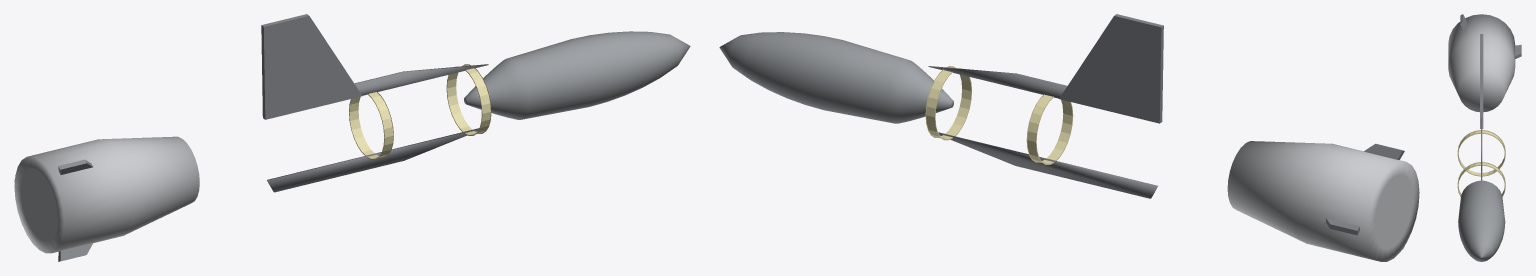
The model's file is US_LAM_Tomahawk_LOD1.fbx.
3 renders of one model, left to right at view 1: azimuth 30°, elevation 25°; view 2: azimuth 150°, elevation 25°; view 3: azimuth 270°, elevation 25°, orthographic. The views are drawn at different scales.
Visible parts, largest first — view 1: WPN_US_LAM_Tomahawk_LOD1_Tail, WPN_US_LAM_Tomahawk_LOD1_Body, WPN_US_LAM_Tomahawk_LOD1_Wings, WPN_US_LAM_Tomahawk_LOD1_Detail, WPN_US_LAM_Tomahawk_LOD1_Marking, WPN_US_LAM_Tomahawk_LOD1_Fins; view 2: WPN_US_LAM_Tomahawk_LOD1_Tail, WPN_US_LAM_Tomahawk_LOD1_Body, WPN_US_LAM_Tomahawk_LOD1_Wings, WPN_US_LAM_Tomahawk_LOD1_Detail, WPN_US_LAM_Tomahawk_LOD1_Marking, WPN_US_LAM_Tomahawk_LOD1_Fins; view 3: WPN_US_LAM_Tomahawk_LOD1_Tail, WPN_US_LAM_Tomahawk_LOD1_Body, WPN_US_LAM_Tomahawk_LOD1_Marking, WPN_US_LAM_Tomahawk_LOD1_Wings, WPN_US_LAM_Tomahawk_LOD1_Fins, WPN_US_LAM_Tomahawk_LOD1_Detail.
Boxes of the visible parts, x1,y1,x2,y2 form: WPN_US_LAM_Tomahawk_LOD1_Tail: [14, 136, 199, 253]; WPN_US_LAM_Tomahawk_LOD1_Body: [464, 31, 690, 119]; WPN_US_LAM_Tomahawk_LOD1_Wings: [261, 14, 362, 119]; WPN_US_LAM_Tomahawk_LOD1_Detail: [267, 64, 488, 192]; WPN_US_LAM_Tomahawk_LOD1_Marking: [349, 64, 491, 159]; WPN_US_LAM_Tomahawk_LOD1_Fins: [14, 159, 92, 261]; WPN_US_LAM_Tomahawk_LOD1_Tail: [1227, 141, 1419, 261]; WPN_US_LAM_Tomahawk_LOD1_Body: [719, 32, 953, 123]; WPN_US_LAM_Tomahawk_LOD1_Wings: [1059, 14, 1163, 123]; WPN_US_LAM_Tomahawk_LOD1_Detail: [928, 66, 1157, 198]; WPN_US_LAM_Tomahawk_LOD1_Marking: [925, 66, 1073, 164]; WPN_US_LAM_Tomahawk_LOD1_Fins: [1326, 143, 1404, 249]; WPN_US_LAM_Tomahawk_LOD1_Tail: [1448, 14, 1515, 112]; WPN_US_LAM_Tomahawk_LOD1_Body: [1458, 180, 1505, 261]; WPN_US_LAM_Tomahawk_LOD1_Marking: [1457, 130, 1505, 197]; WPN_US_LAM_Tomahawk_LOD1_Wings: [1480, 34, 1483, 128]; WPN_US_LAM_Tomahawk_LOD1_Fins: [1460, 14, 1521, 58]; WPN_US_LAM_Tomahawk_LOD1_Detail: [1481, 118, 1482, 180].
Bounding box in the file's own units: 5.56 × 0.8112 × 1.41.
